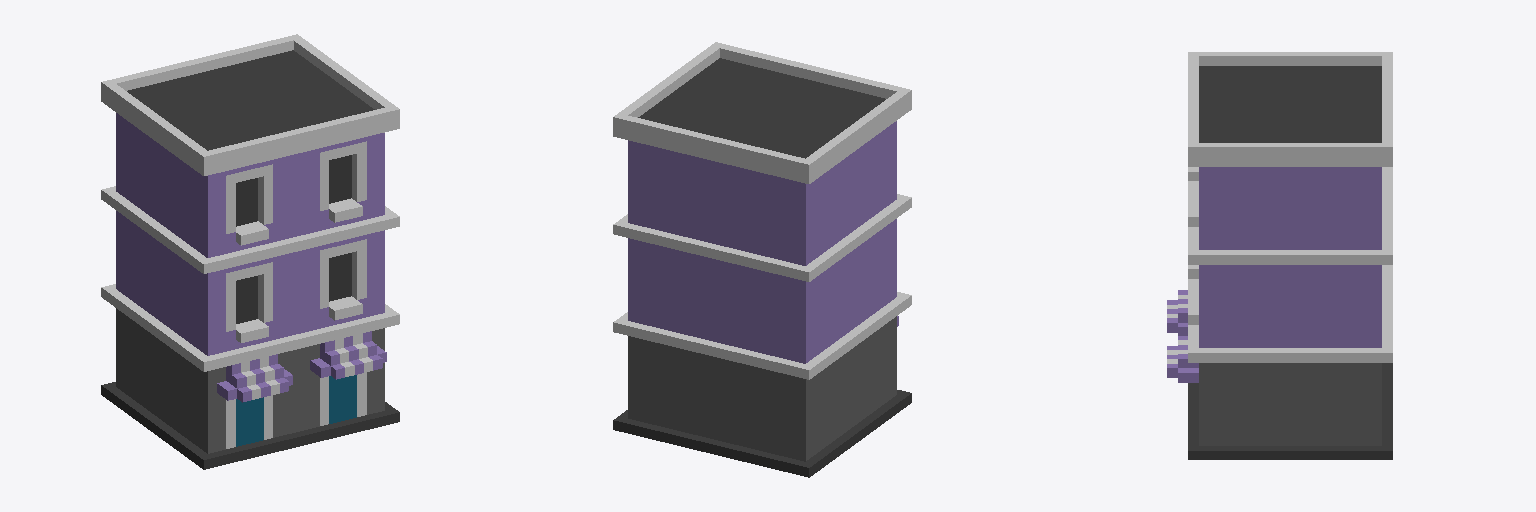
3 renders of one model, left to right at view 1: azimuth 30°, elevation 25°; view 2: azimuth 150°, elevation 25°; view 3: azimuth 270°, elevation 25°, orthographic.
Visible parts, largest first — view 1: Big_Shopping_Biulding; view 2: Big_Shopping_Biulding; view 3: Big_Shopping_Biulding.
Boxes of the visible parts, x1,y1,x2,y2 form: Big_Shopping_Biulding: [101, 34, 399, 469]; Big_Shopping_Biulding: [613, 42, 911, 477]; Big_Shopping_Biulding: [1167, 52, 1392, 459].
Bounding box in the file's own units: 21 × 32 × 21.
1 materials, 1 textured.